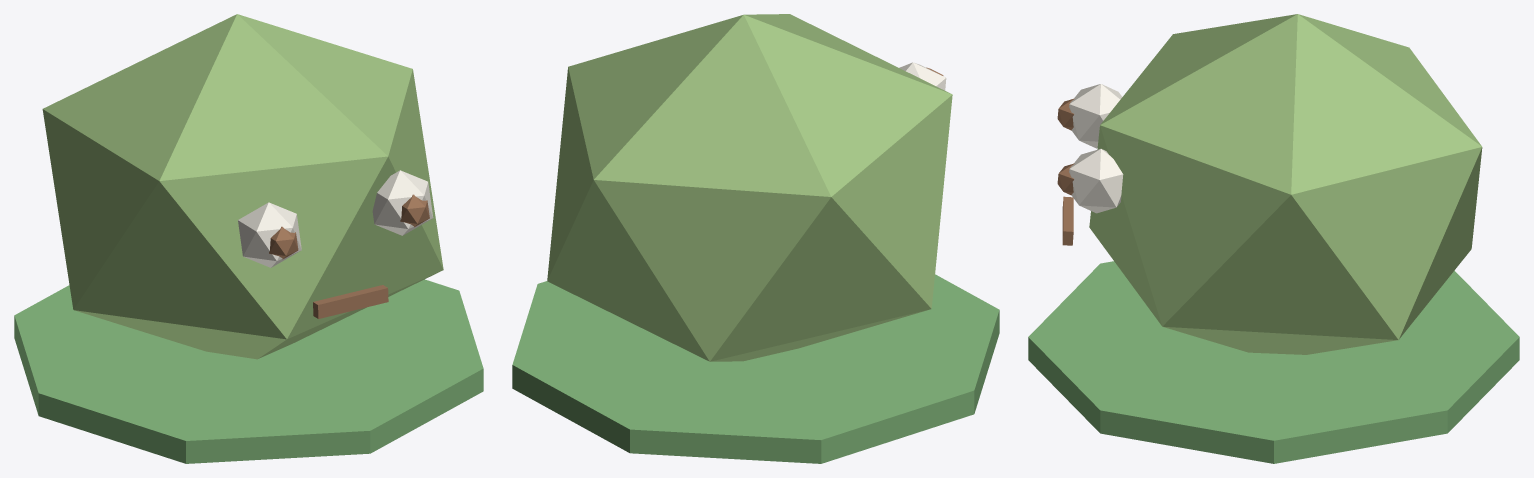
The model's file is npcpose_slime_idle_09.glb.
3 views of the same model, side by side, from view 1: azimuth 30°, elevation 25°; view 2: azimuth 150°, elevation 25°; view 3: azimuth 270°, elevation 25° (orthographic). The views are drawn at different scales.
Parts seen in each view (by area): view 1: npcpose; view 2: npcpose; view 3: npcpose.
Boxes of the visible parts, x1=… form: npcpose: x1=14, y1=14, x2=483, y2=463; npcpose: x1=512, y1=14, x2=999, y2=463; npcpose: x1=1028, y1=14, x2=1519, y2=463.
Bounding box in the file's own units: 0.96 × 0.7465 × 0.96.
